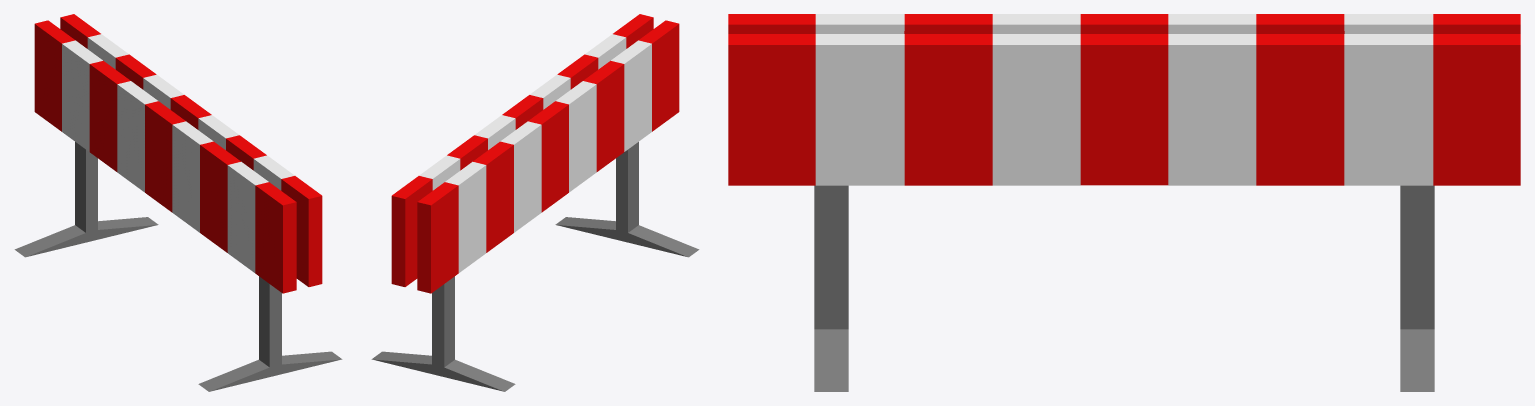
Rendered from szlaban.fbx.
3 views of the same model, side by side, from view 1: azimuth 30°, elevation 25°; view 2: azimuth 150°, elevation 25°; view 3: azimuth 270°, elevation 25° (orthographic). The views are drawn at different scales.
Parts seen in each view (by area): view 1: Cube; view 2: Cube; view 3: Cube.
Boxes of the visible parts, left/top/right/bottom form: Cube: left=14, top=14, right=342, bottom=391; Cube: left=371, top=14, right=699, bottom=391; Cube: left=728, top=14, right=1520, bottom=391.
Bounding box in the file's own units: 165 × 230 × 531.
